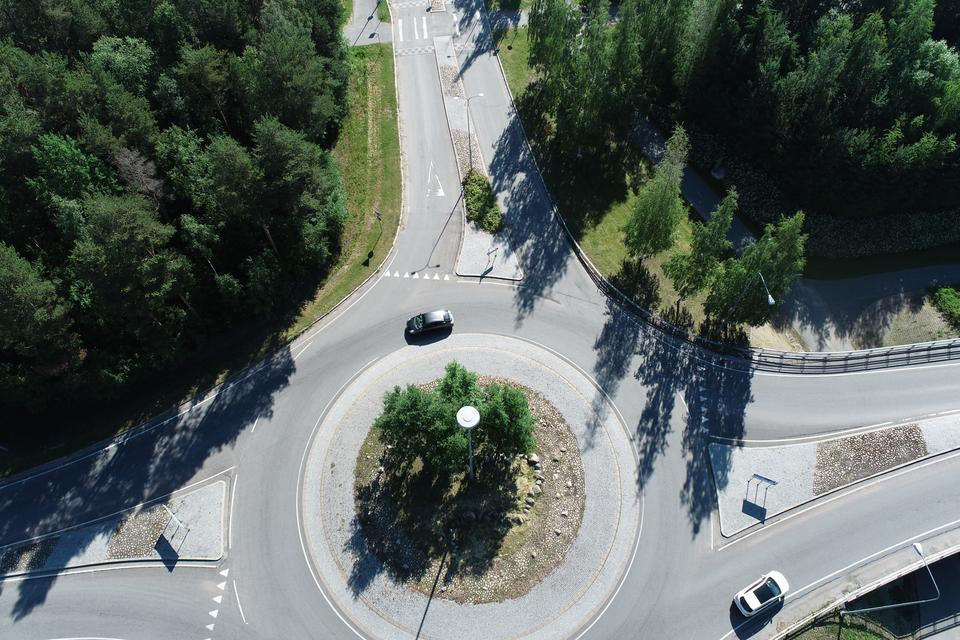intersection: (330, 0, 515, 60)
roundabout: (210, 213, 806, 640)
